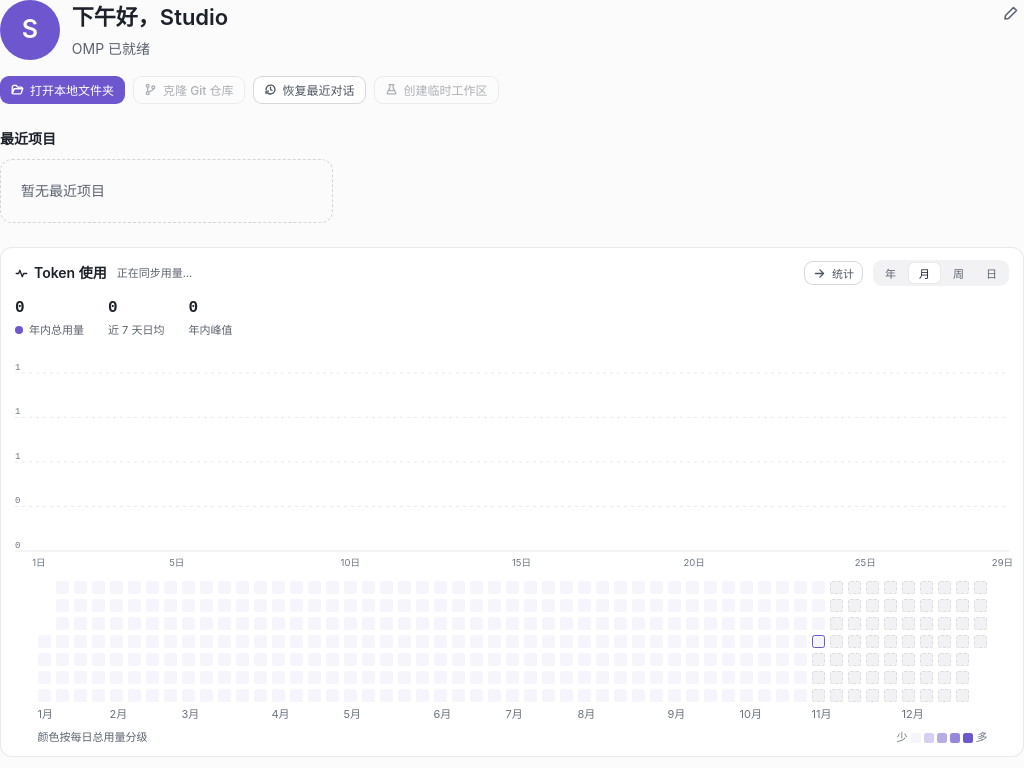
Test: HomePage identity › saves a new display name from the edit dialog
The image size is (1024, 768).
Click the button named "编辑用户名和头像".
click(1011, 13)  # box [998, 0, 1023, 26]
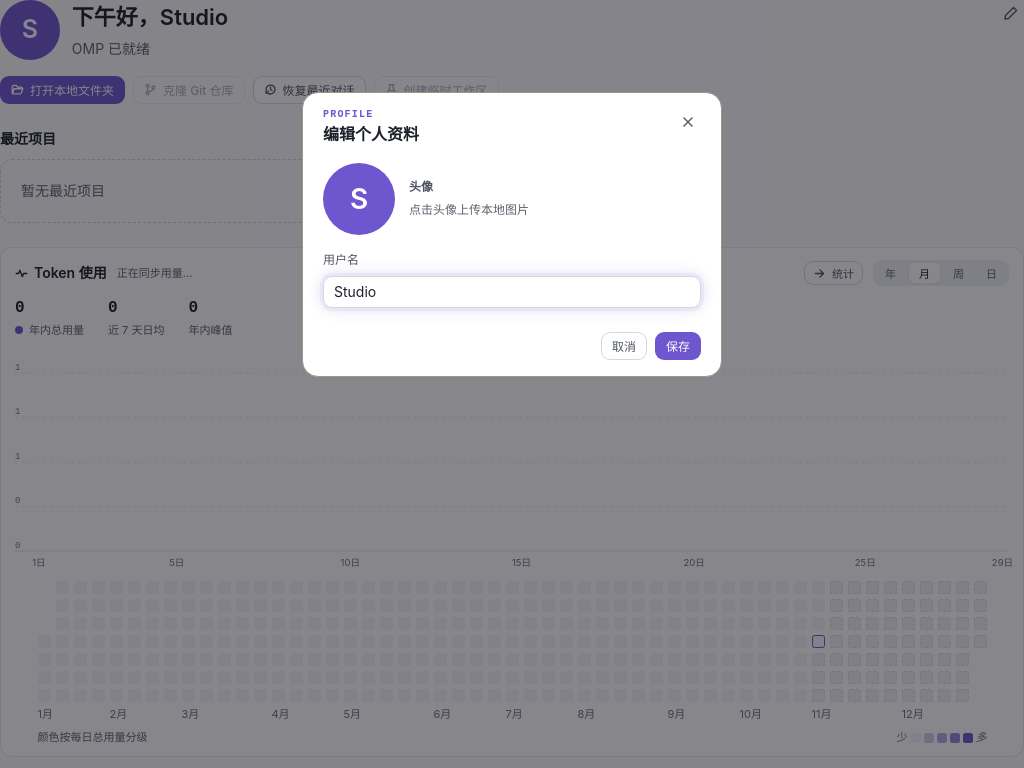
Result: the dialog "编辑个人资料" is shown at [302, 92, 722, 377]
Type "Ada" into the field labelled "用户名".
click(512, 292); type("Ada")  # box [323, 276, 701, 308]
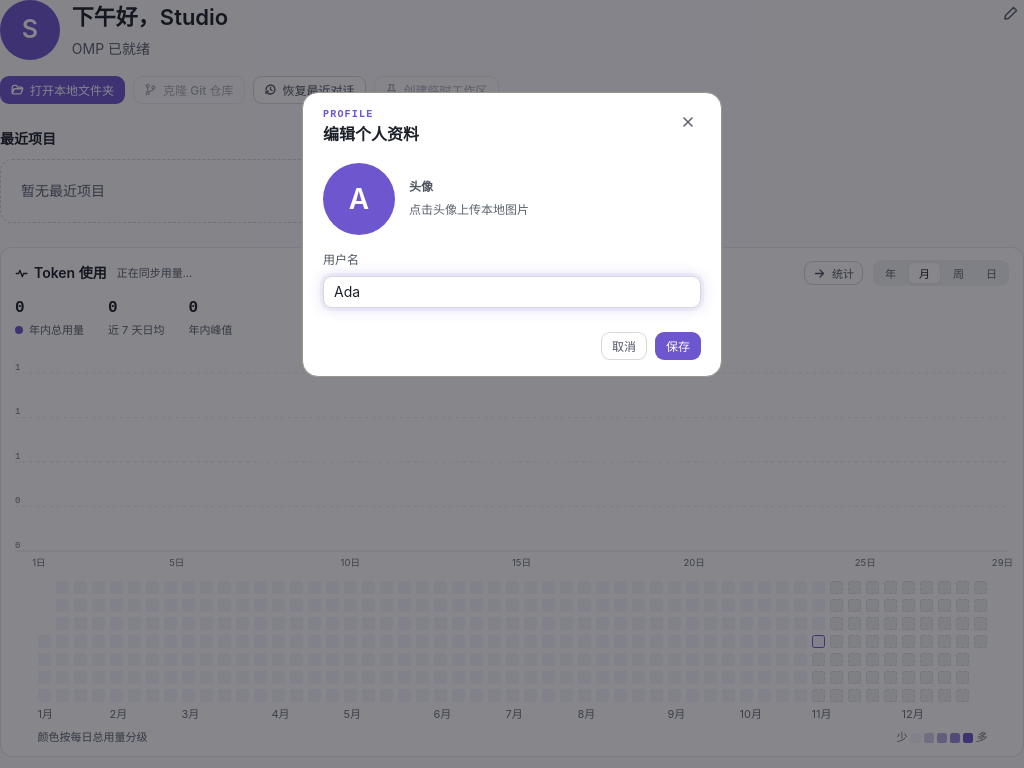
Click the button "保存".
click(678, 346)  # box [655, 332, 701, 360]
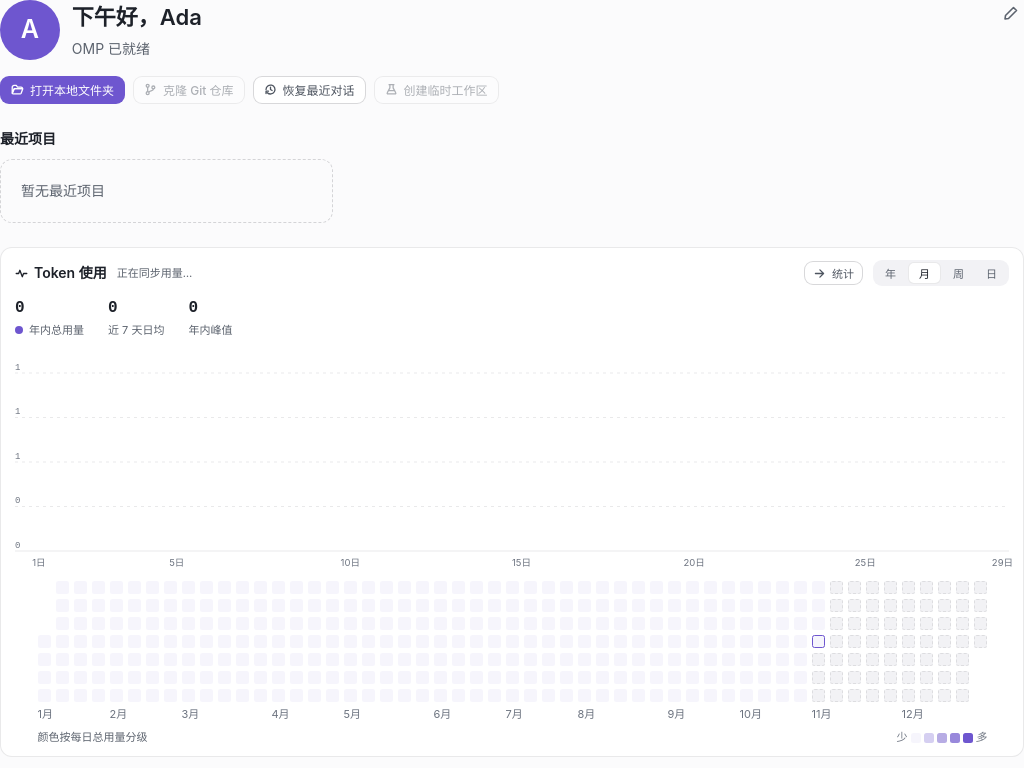
Result: the dialog is gone
Result: the heading "下午好，Ada" is shown at [72, 4, 202, 30]
